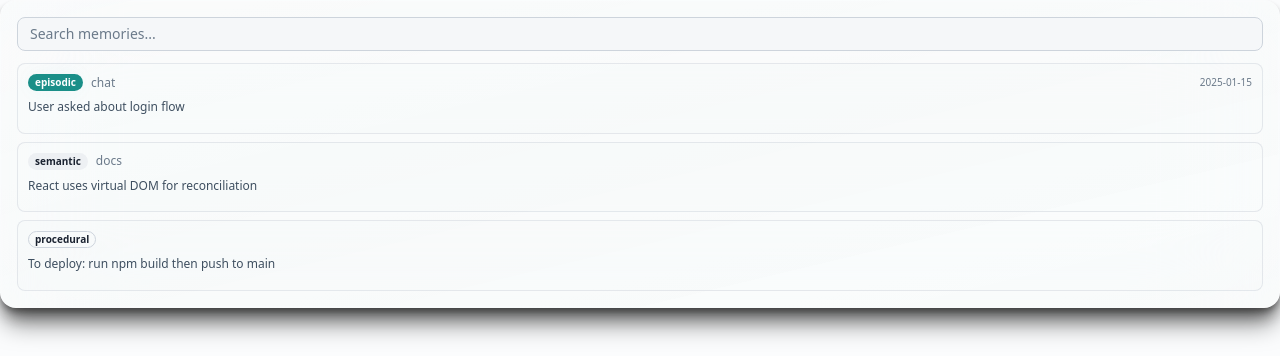
MemoryInspector › shows empty state when no results
This screenshot has width=1280, height=356.
In the field with placeholder "Search memories...": (640, 34) [17,17,1263,51], type "zzzznotfound"
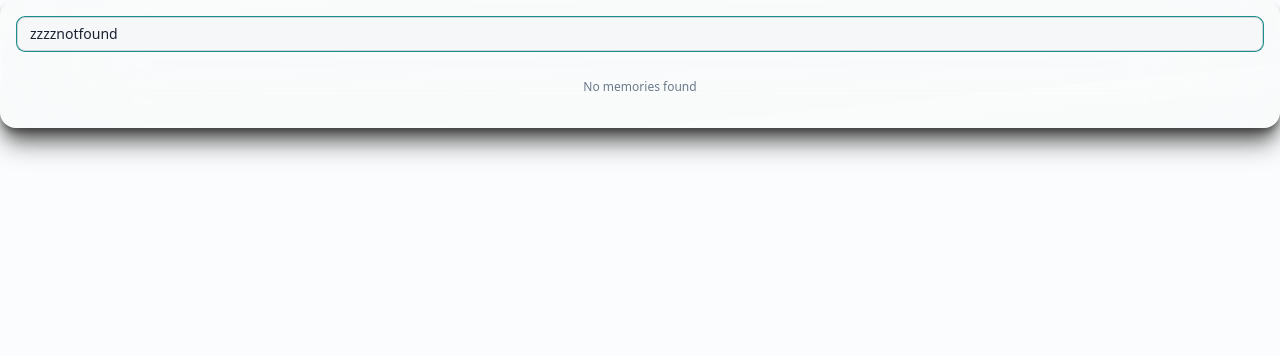
Now the text "No memories found" is shown, box [583,78,697,95]
